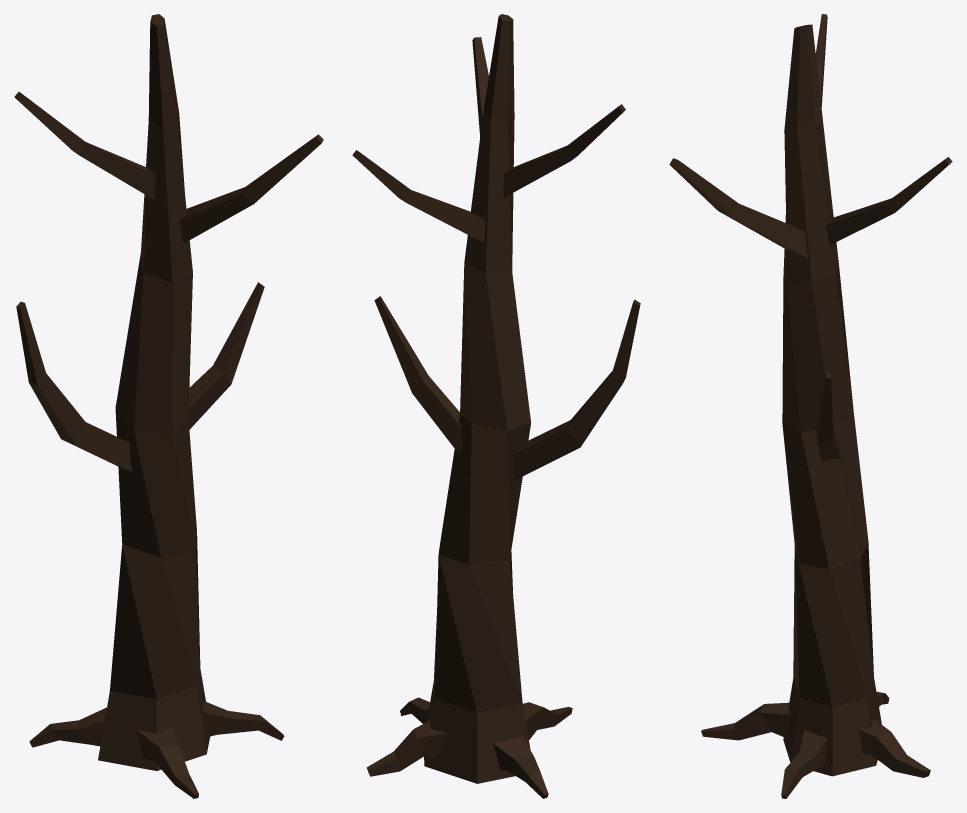
Rendered from Tree_type2.FBX.
3 views of the same model, side by side, from view 1: azimuth 30°, elevation 25°; view 2: azimuth 150°, elevation 25°; view 3: azimuth 270°, elevation 25° (orthographic). The views are drawn at different scales.
Parts seen in each view (by area): view 1: Derevo_type2_01; view 2: Derevo_type2_01; view 3: Derevo_type2_01.
Part boxes in pixels (box(x1,y1,x2,y2)): Derevo_type2_01: box(14, 14, 323, 798); Derevo_type2_01: box(352, 14, 640, 798); Derevo_type2_01: box(669, 14, 952, 798).
Size of the model in its own units: 144 by 141 by 397.
